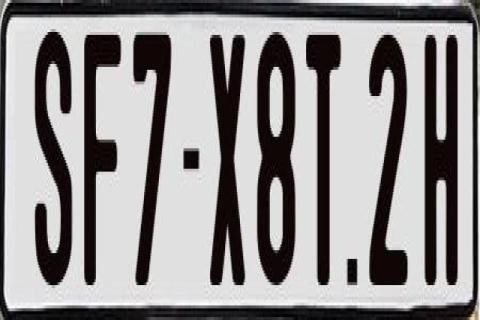0: (256, 26, 294, 294), (131, 32, 169, 296), (369, 26, 407, 276)
F: (81, 32, 119, 294)
H: (424, 35, 461, 303)
S: (32, 32, 70, 288)
T: (305, 26, 346, 288)
X: (210, 29, 245, 285)
